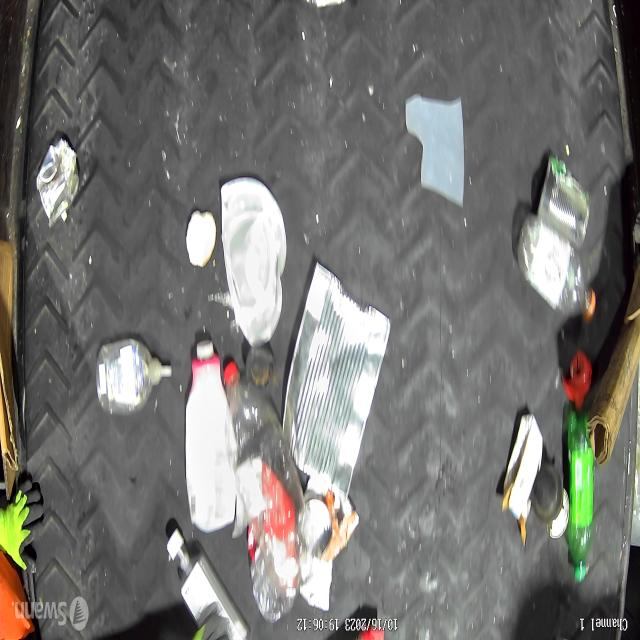can: (280, 263, 389, 502), (536, 153, 591, 247), (306, 488, 358, 565), (37, 135, 80, 227), (531, 460, 569, 540)
milk_jug: (184, 340, 236, 532)
plastic_bottle: (225, 364, 304, 622), (516, 213, 596, 323), (567, 415, 595, 583)
